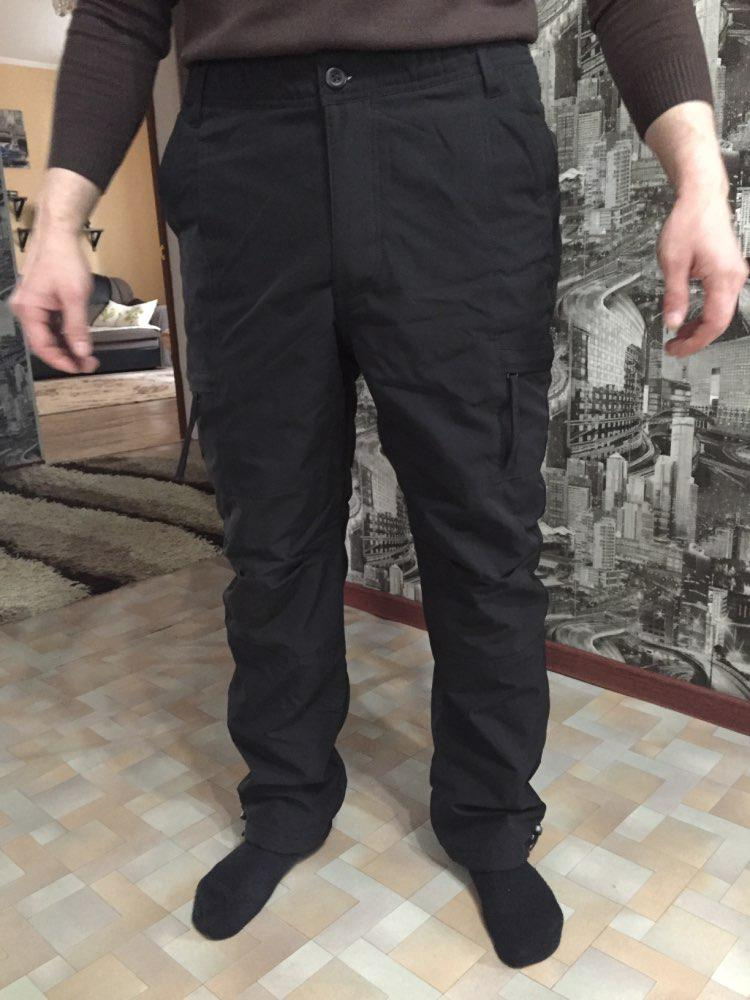pants: (159, 59, 562, 854)
